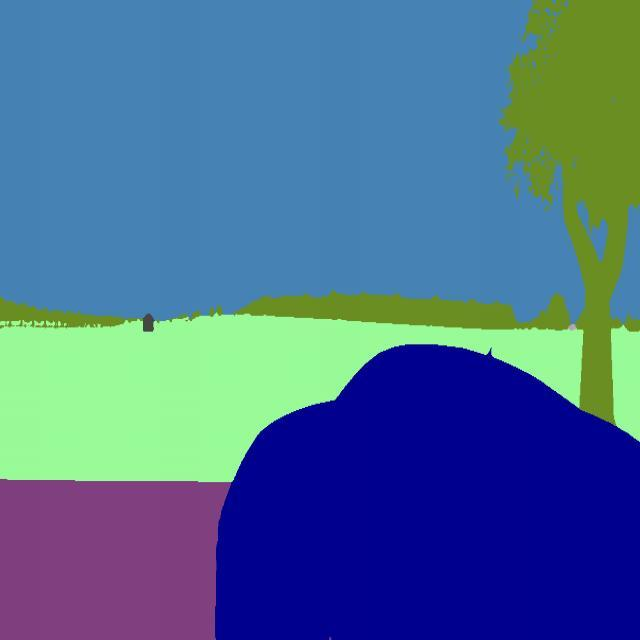unsafe: (207, 337, 640, 640)
